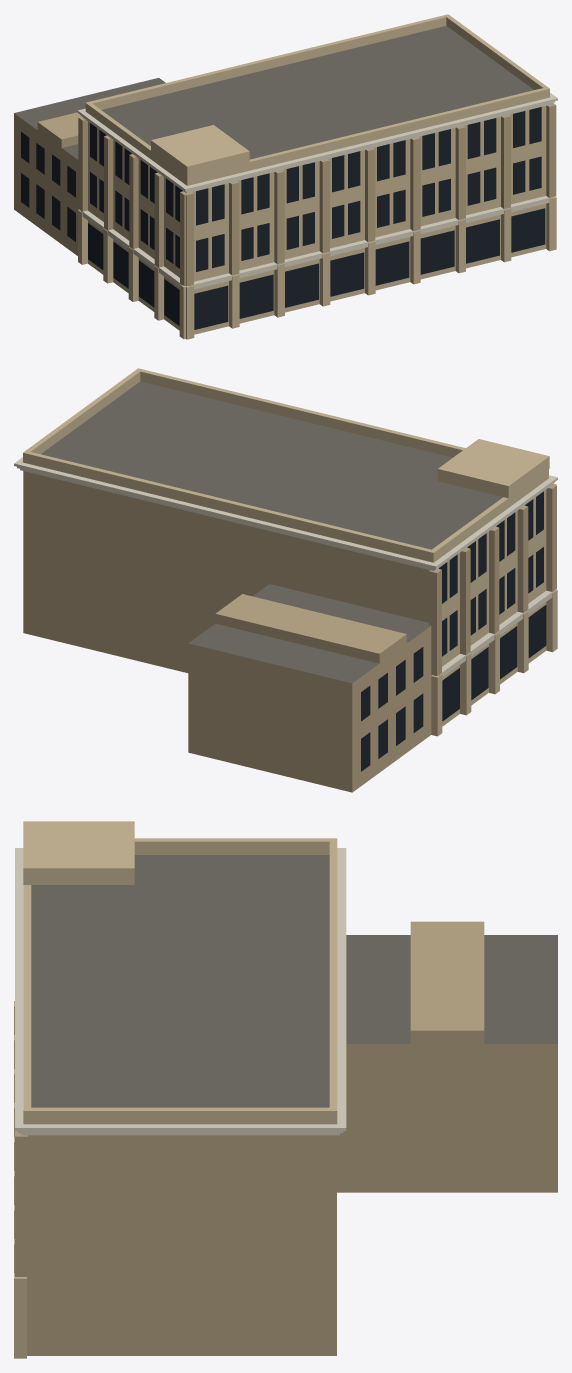
File: mosaic-templars-temple.glb
The picture shows the model from 3 angles, top to bottom: view 1: azimuth 30°, elevation 25°; view 2: azimuth 150°, elevation 25°; view 3: azimuth 270°, elevation 25°; orthographic projection. The views are drawn at different scales.
Parts seen in each view (by area): view 1: mosaic_brick, mosaic_glass, mosaic_roof, mosaic_brick2, mosaic_stone; view 2: mosaic_brick2, mosaic_roof, mosaic_brick, mosaic_glass, mosaic_stone; view 3: mosaic_brick2, mosaic_roof, mosaic_brick, mosaic_stone.
Part boxes in pixels (left/top/right/bottom): mosaic_brick: left=78, top=14, right=556, bottom=339; mosaic_glass: left=21, top=107, right=545, bottom=329; mosaic_roof: left=14, top=25, right=533, bottom=159; mosaic_brick2: left=14, top=103, right=556, bottom=286; mosaic_stone: left=77, top=93, right=557, bottom=289; mosaic_brick2: left=23, top=471, right=556, bottom=792; mosaic_roof: left=41, top=381, right=502, bottom=683; mosaic_brick: left=23, top=368, right=557, bottom=736; mosaic_glass: left=361, top=491, right=546, bottom=771; mosaic_stone: left=14, top=457, right=557, bottom=677; mosaic_brick2: left=15, top=921, right=557, bottom=1355; mosaic_roof: left=31, top=855, right=557, bottom=1107; mosaic_brick: left=14, top=821, right=337, bottom=1358; mosaic_stone: left=15, top=848, right=346, bottom=1135.
Size of the model in its own units: 36.05 by 15.7 by 29.55.
